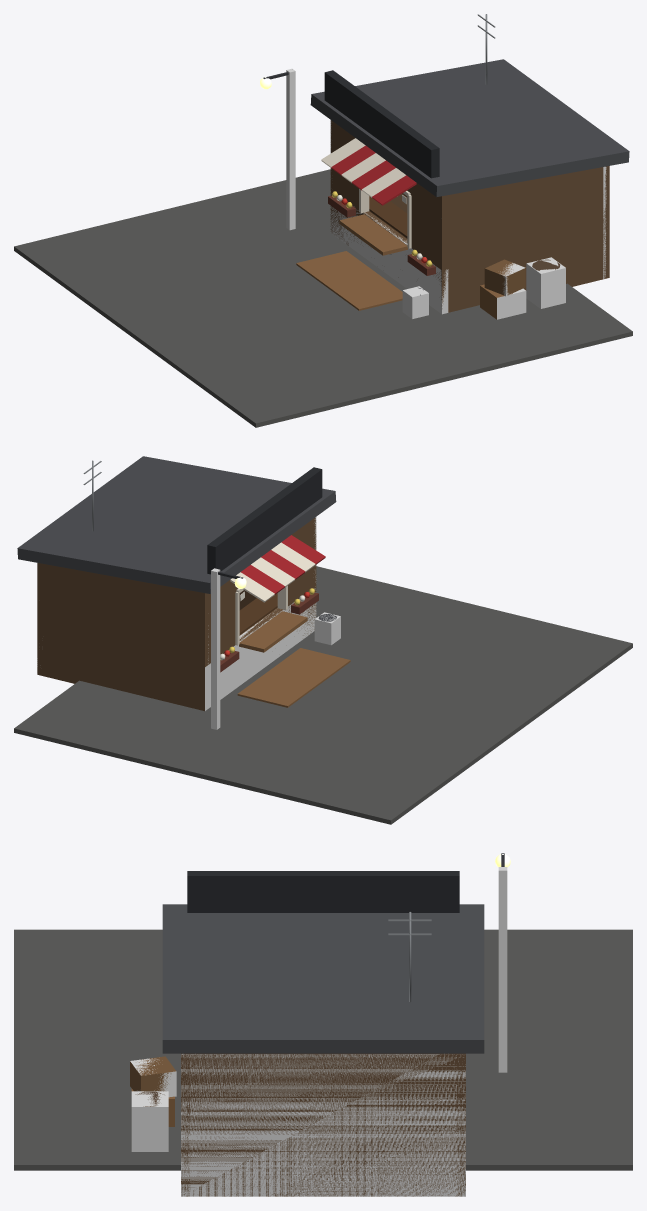
File: booth-4.glb
The picture shows the model from 3 angles, top to bottom: view 1: azimuth 30°, elevation 25°; view 2: azimuth 150°, elevation 25°; view 3: azimuth 270°, elevation 25°; orthographic projection. The views are drawn at different scales.
Visible parts, largest first — view 1: 27_#5a5a58_noshadow, 28_#4c4e52, 17_#6a5038, 29_#2a2c30_noshadow, 04_#8a6440_noshadow, solid.008, 18_#6a5038_r320, 00_#e8e0d0_noshadow_r320, 09_#8a6440_r320, 01_#a3262c_noshadow_r320, solid.003, solid.004 (+5 smaller); view 2: 27_#5a5a58_noshadow, 28_#4c4e52, 17_#6a5038, 29_#2a2c30_noshadow, 04_#8a6440_noshadow, solid.008, 00_#e8e0d0_noshadow_r320, 18_#6a5038_r320, solid.004, 01_#a3262c_noshadow_r320, 09_#8a6440_r320, 22_#5a3e26_noshadow (+2 smaller); view 3: 27_#5a5a58_noshadow, 28_#4c4e52, solid.005, 17_#6a5038, 29_#2a2c30_noshadow, solid.003, solid.004, 10_#7a5a3a_r110, solid.002.
Boxes of the visible parts, left/top/right/bottom form: 27_#5a5a58_noshadow: left=14, top=169, right=632, bottom=427; 28_#4c4e52: left=310, top=59, right=629, bottom=197; 17_#6a5038: left=330, top=120, right=609, bottom=312; 29_#2a2c30_noshadow: left=324, top=70, right=439, bottom=178; 04_#8a6440_noshadow: left=296, top=251, right=402, bottom=310; solid.008: left=330, top=206, right=448, bottom=314; 18_#6a5038_r320: left=330, top=137, right=442, bottom=269; 00_#e8e0d0_noshadow_r320: left=321, top=138, right=411, bottom=248; 09_#8a6440_r320: left=339, top=214, right=512, bottom=319; 01_#a3262c_noshadow_r320: left=331, top=145, right=416, bottom=205; solid.003: left=526, top=257, right=565, bottom=308; solid.004: left=286, top=68, right=295, bottom=230; 27_#5a5a58_noshadow: left=14, top=566, right=632, bottom=824; 28_#4c4e52: left=17, top=456, right=336, bottom=593; 17_#6a5038: left=37, top=518, right=316, bottom=711; 29_#2a2c30_noshadow: left=207, top=467, right=322, bottom=574; 04_#8a6440_noshadow: left=237, top=648, right=350, bottom=707; solid.008: left=205, top=588, right=316, bottom=710; 00_#e8e0d0_noshadow_r320: left=230, top=542, right=315, bottom=645; 18_#6a5038_r320: left=198, top=534, right=316, bottom=666; solid.004: left=211, top=568, right=220, bottom=729; 01_#a3262c_noshadow_r320: left=241, top=535, right=325, bottom=594; 09_#8a6440_r320: left=239, top=611, right=307, bottom=652; 22_#5a3e26_noshadow: left=239, top=593, right=277, bottom=634; 27_#5a5a58_noshadow: left=14, top=929, right=632, bottom=1170; 28_#4c4e52: left=162, top=904, right=484, bottom=1053; solid.005: left=181, top=1054, right=465, bottom=1196; 17_#6a5038: left=181, top=1053, right=465, bottom=1196; 29_#2a2c30_noshadow: left=187, top=871, right=459, bottom=912; solid.003: left=131, top=1091, right=168, bottom=1151; solid.004: left=498, top=867, right=507, bottom=1072; 10_#7a5a3a_r110: left=130, top=1056, right=175, bottom=1091; solid.002: left=130, top=1058, right=176, bottom=1097.
Size of the model in its own units: 10.3 by 4.7 by 10.
